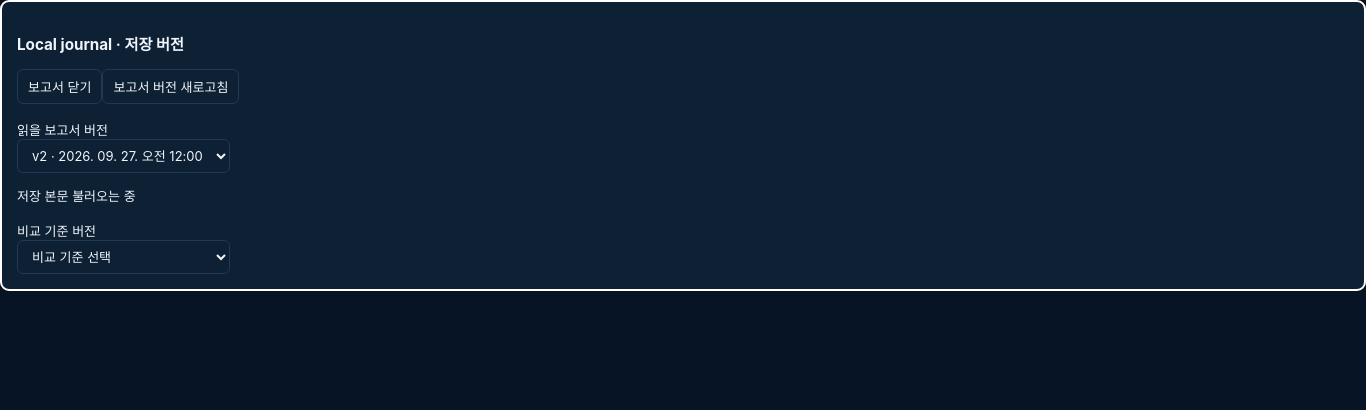
Test case: ignores a delayed detail response after a different version is selected
Step 1. Select "v1" in the dropdown labelled "읽을 보고서 버전" → (124, 156), box [17, 139, 230, 173]
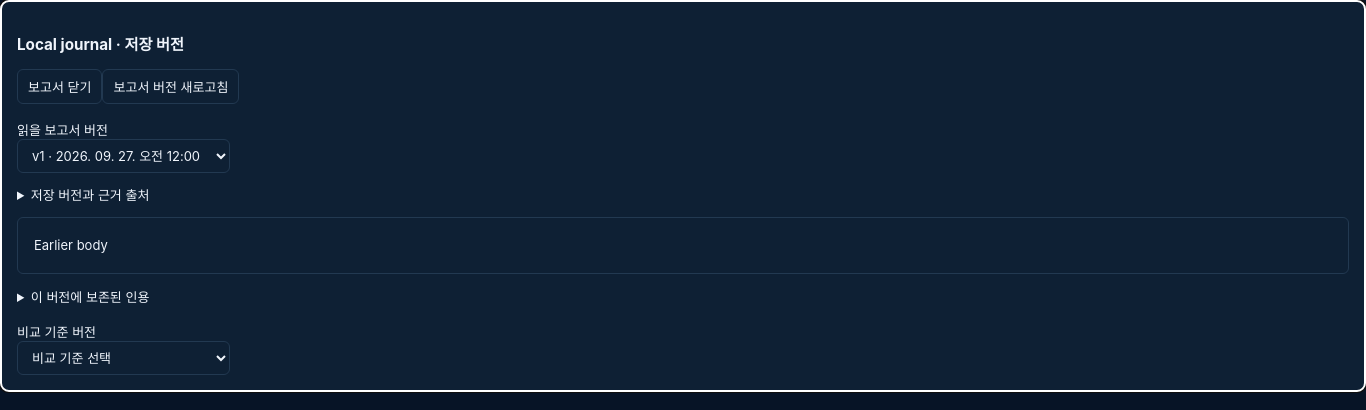
Result: the text "Earlier body" is shown at [17, 217, 1349, 274]
